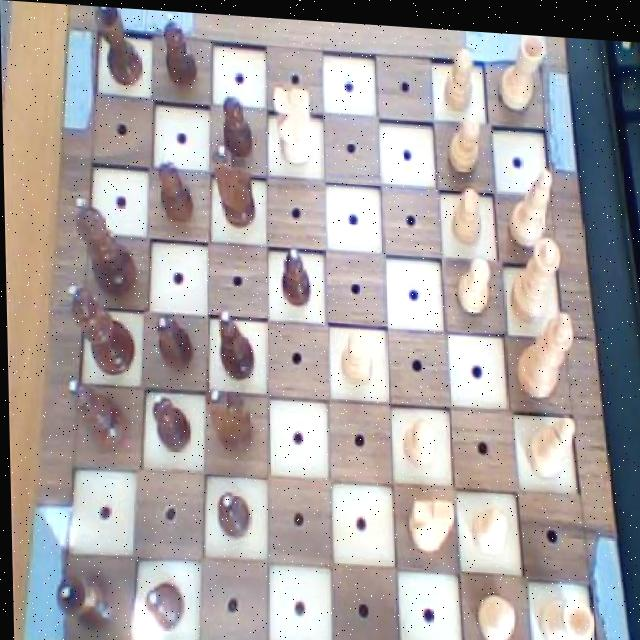bishop: (62, 374, 129, 456), (213, 300, 259, 382)
black-bishop: (62, 278, 137, 378)
black-king: (208, 137, 256, 232), (200, 378, 255, 457)
black-knight: (158, 8, 198, 88), (153, 151, 195, 225), (215, 79, 255, 156), (152, 309, 197, 374), (150, 391, 193, 454), (274, 239, 313, 306), (139, 573, 185, 628), (213, 486, 251, 541)
black-pawn: (71, 195, 138, 297)
black-queen: (51, 562, 115, 634), (93, 5, 147, 89)
black-rook: (501, 157, 558, 247), (522, 401, 579, 478)
white-bishop: (512, 297, 577, 396)
white-king: (267, 77, 315, 167), (399, 483, 456, 553)
white-knight: (448, 245, 494, 315), (441, 35, 478, 113), (471, 580, 519, 640), (443, 100, 483, 170), (444, 176, 484, 245), (334, 325, 375, 387), (467, 493, 507, 550), (401, 405, 438, 463)
white-pawn: (507, 223, 567, 322)
white-queen: (492, 26, 552, 112), (536, 586, 594, 640)
